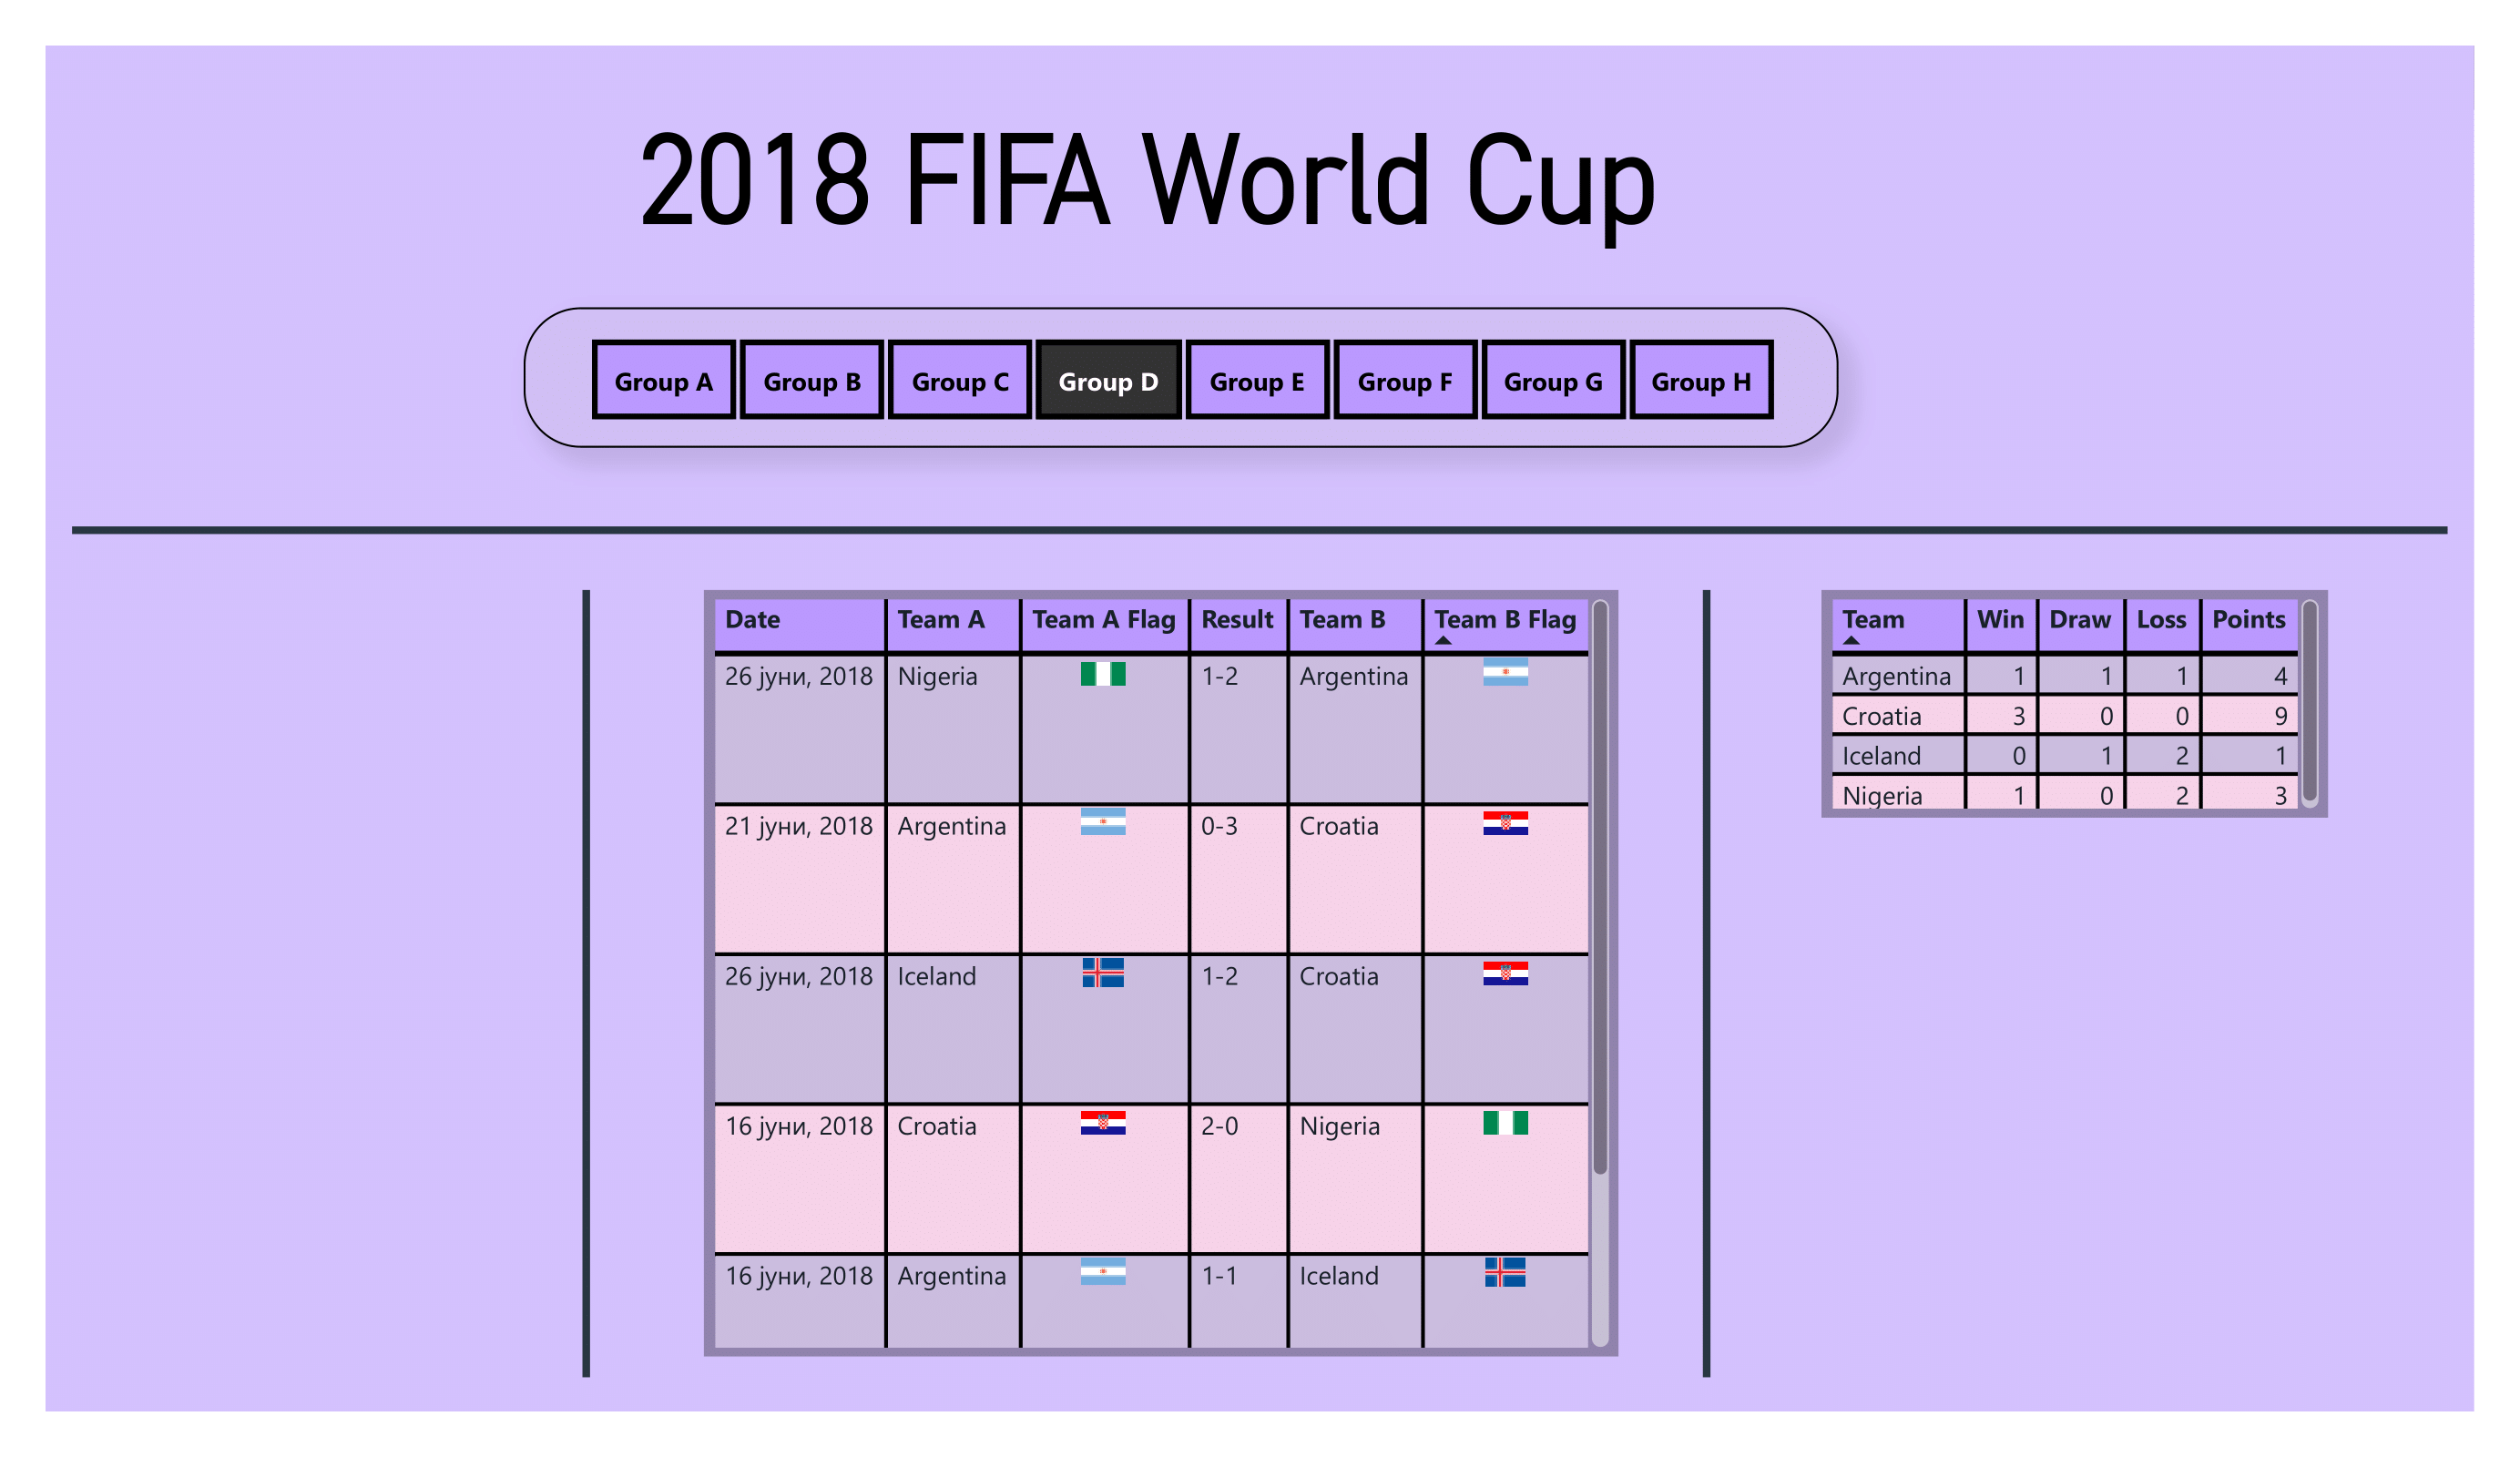

The page's visual inventory and layout, read from the dashboard file:
{"tool":"powerbi","page":{"name":"Report Fifa 2018","canvas":[1280,720],"ordinal":0},"visuals":[{"type":"slicer","fields":{"Values":["Matches.Group"]},"box":[252,138,693,74],"z":0},{"type":"tableEx","fields":{"Values":["Matches.Date","Matches.Team A","Matches.Team A Flag","Matches.Result","Matches.Team B","Matches.Team B Flag"]},"box":[347,287,482,404],"z":1000},{"type":"tableEx","fields":{"Values":["Groups.Team","Groups.Win","Groups.Draw","Groups.Loss","Groups.Points"]},"box":[936,287,267,120],"z":2000},{"type":"shape","box":[14,235,1252,41],"z":3000},{"type":"shape","box":[863,287,25,415],"z":4000},{"type":"shape","box":[272,287,26,415],"z":5000},{"type":"textbox","box":[298,27,567,85],"z":6000}]}

Visuals, with their boxes in screenshot pixels (x1, y1, x2, y2):
slicer - Matches.Group: box(524, 308, 1839, 448)
tableEx - Matches.Date x Matches.Team A: box(704, 590, 1618, 1357)
tableEx - Groups.Team x Groups.Win: box(1821, 590, 2329, 818)
shape: box(72, 492, 2448, 569)
shape: box(1683, 590, 1730, 1377)
shape: box(562, 590, 611, 1377)
textbox: box(611, 97, 1687, 258)
